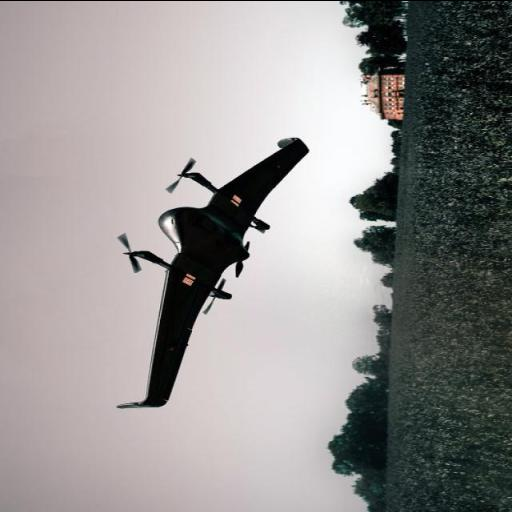uav: (96, 127, 322, 416)
